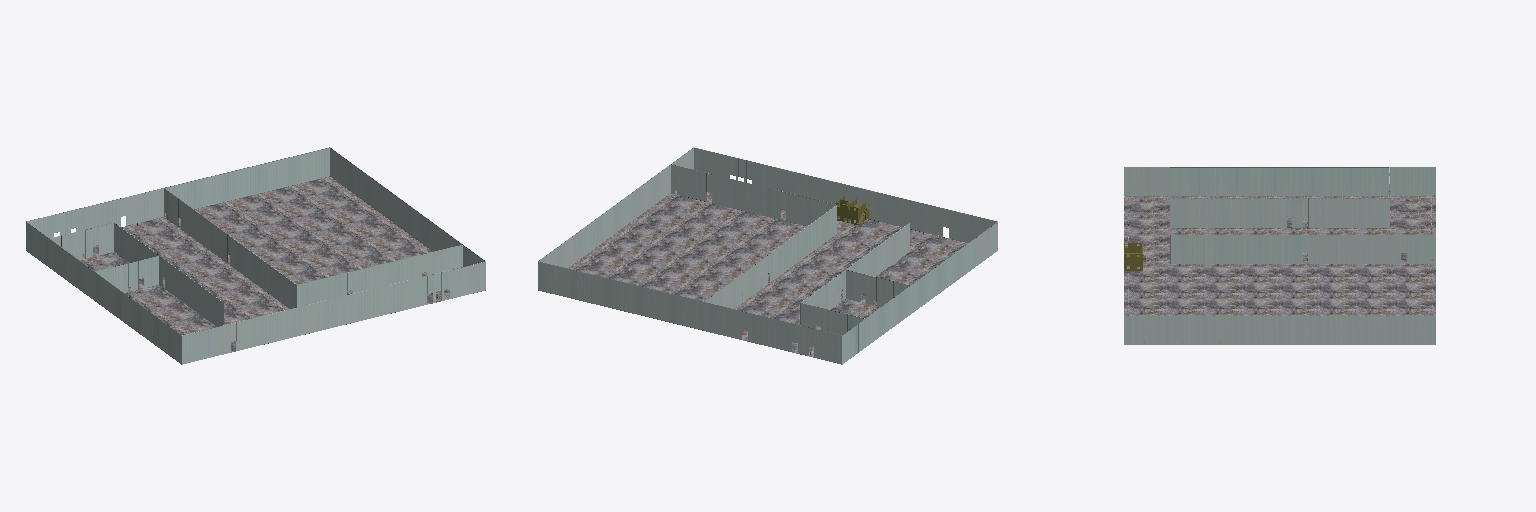
3 renders of one model, left to right at view 1: azimuth 30°, elevation 25°; view 2: azimuth 150°, elevation 25°; view 3: azimuth 270°, elevation 25°, orthographic.
Parts seen in each view (by area): view 1: Mesh; view 2: Mesh; view 3: Mesh.
Part boxes in pixels (x1,y1,x2,y2): Mesh: (26,147,485,364); Mesh: (538,147,997,364); Mesh: (1124,167,1435,344).
Size of the model in its own units: 54.92 by 5 by 48.7.
Materials: 4 (3 with a texture image).